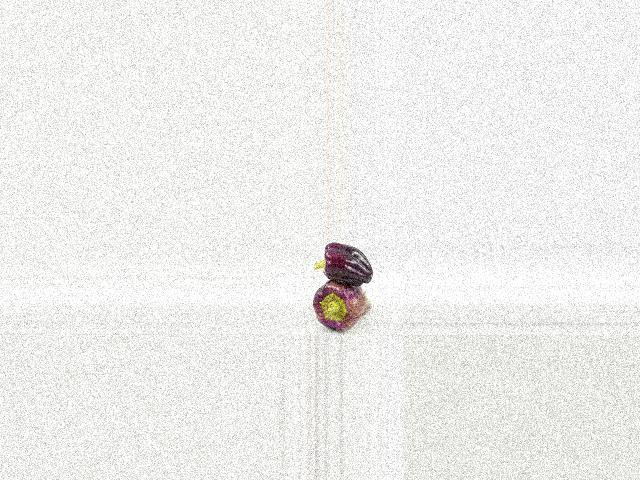bell_pepper: (301, 279, 381, 333)
